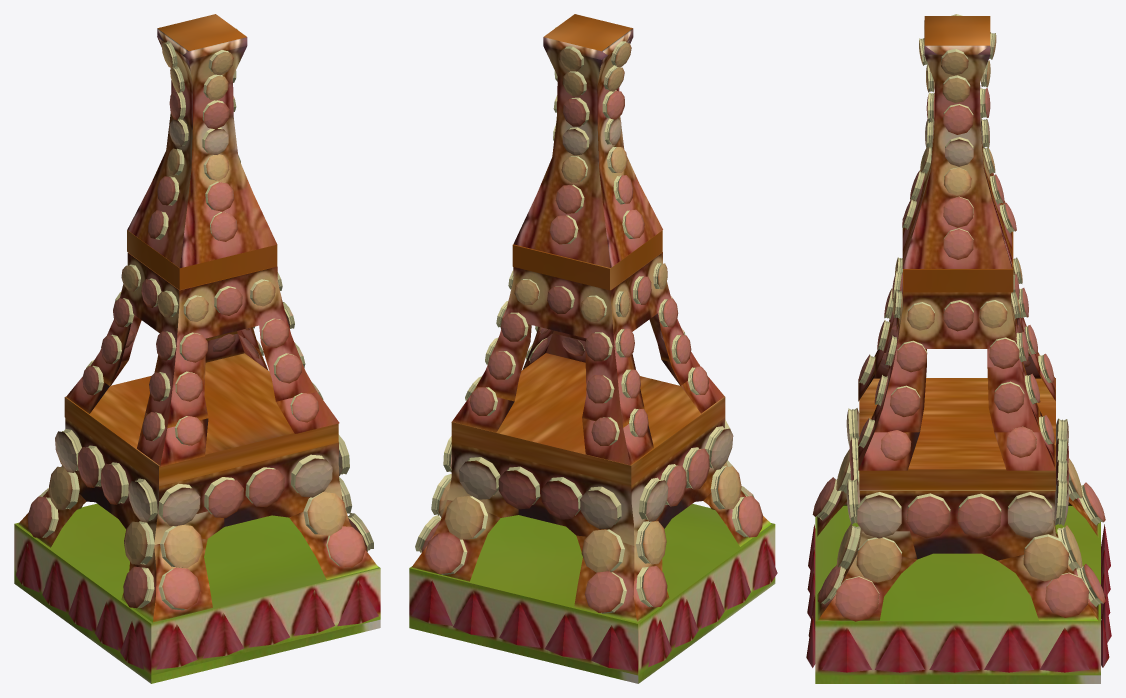
The model's file is TorreEiffele.obj.
3 renders of one model, left to right at view 1: azimuth 30°, elevation 25°; view 2: azimuth 150°, elevation 25°; view 3: azimuth 270°, elevation 25°, orthographic. The views are drawn at different scales.
Parts seen in each view (by area): view 1: TorreEiffele; view 2: TorreEiffele; view 3: TorreEiffele.
Part boxes in pixels (<box>): TorreEiffele: <box>14,14,380,683</box>; TorreEiffele: <box>409,14,777,683</box>; TorreEiffele: <box>806,14,1111,683</box>.
Size of the model in its own units: 3.2 by 7.07 by 3.28.
Materials: 1 (1 with a texture image).
